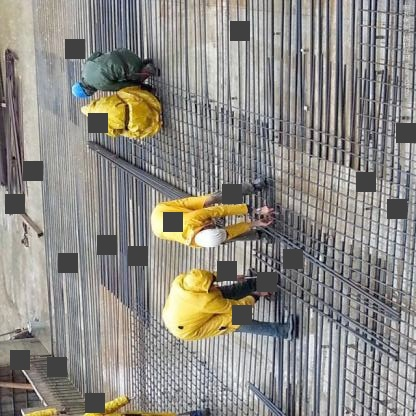blue: (70, 80, 90, 101)
white: (191, 224, 236, 250)
